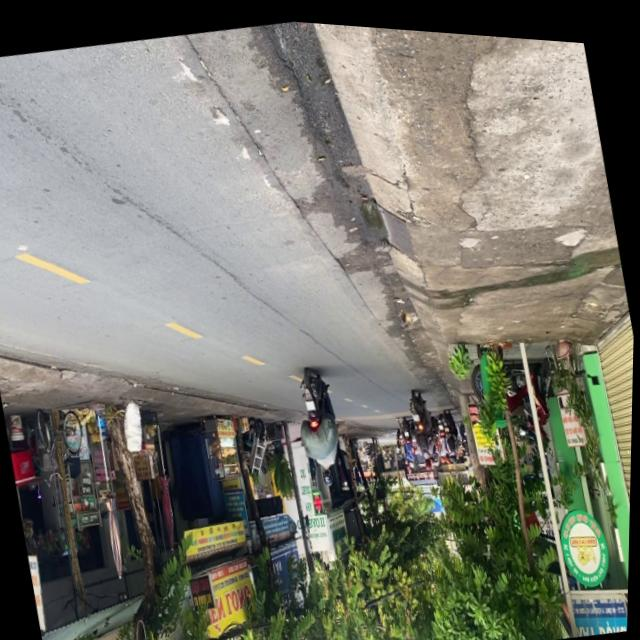helmet: (321, 462, 335, 482)
licenseplate: (289, 359, 351, 486)
nohelmet: (305, 394, 317, 407)
